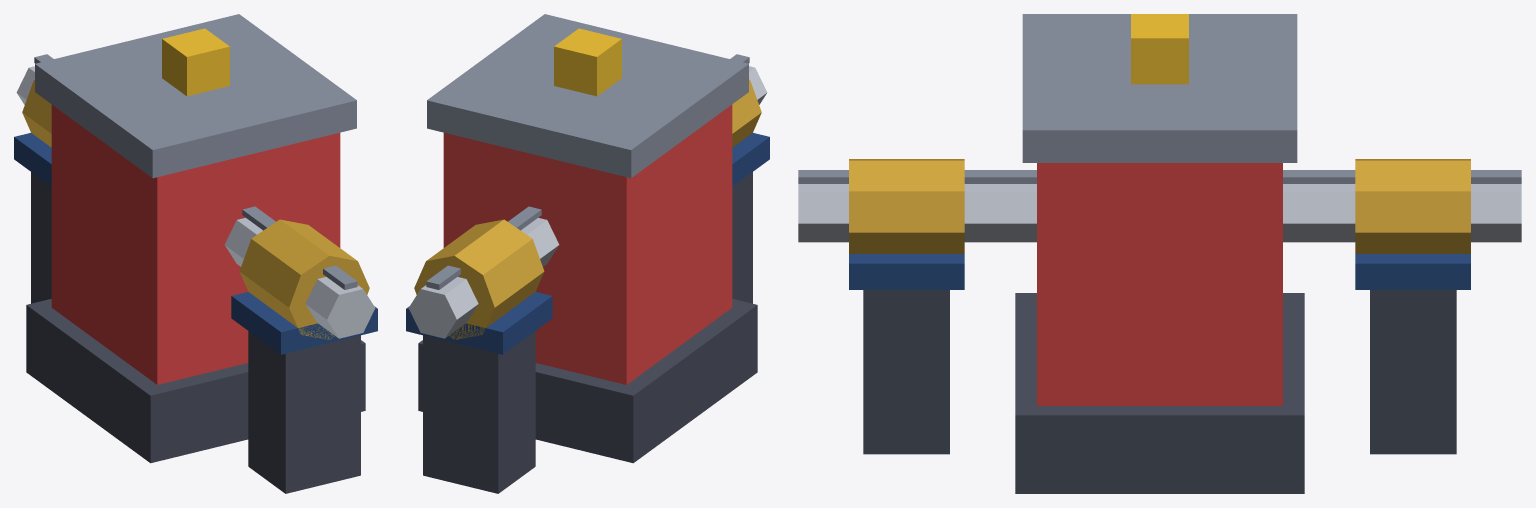
The model's file is reverser.glb.
3 views of the same model, side by side, from view 1: azimuth 30°, elevation 25°; view 2: azimuth 150°, elevation 25°; view 3: azimuth 270°, elevation 25° (orthographic). The views are drawn at different scales.
Visible parts, largest first — view 1: reverser, spin-y, spin-ny; view 2: reverser, spin-ny, spin-y; view 3: reverser, spin-ny, spin-y.
Boxes of the visible parts, x1,y1,x2,y2 form: reverser: (14, 14, 377, 493); spin-y: (224, 206, 375, 338); spin-ny: (16, 54, 53, 104); reverser: (406, 14, 769, 493); spin-ny: (408, 206, 559, 338); spin-y: (730, 54, 767, 104); reverser: (849, 14, 1470, 493); spin-ny: (1283, 170, 1521, 242); spin-y: (798, 170, 1036, 242).
Bounding box in the file's own units: 0.4 × 0.62 × 1.
Materials: 3 (3 with a texture image).
